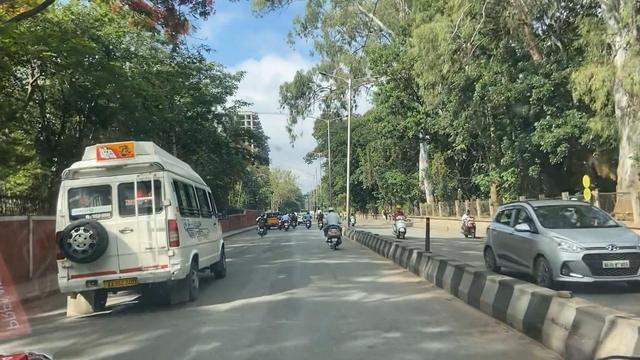HMV: (57, 155, 190, 306)
LMV: (323, 203, 340, 242), (252, 207, 269, 238), (281, 212, 291, 232)
